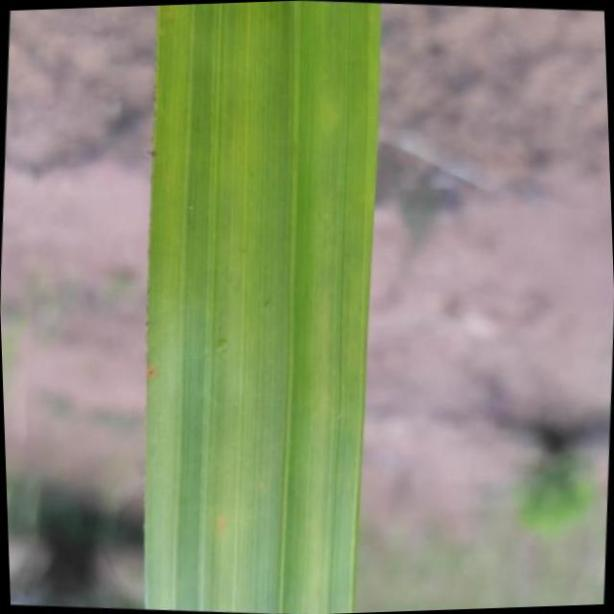nitrogen: (136, 0, 377, 614)
